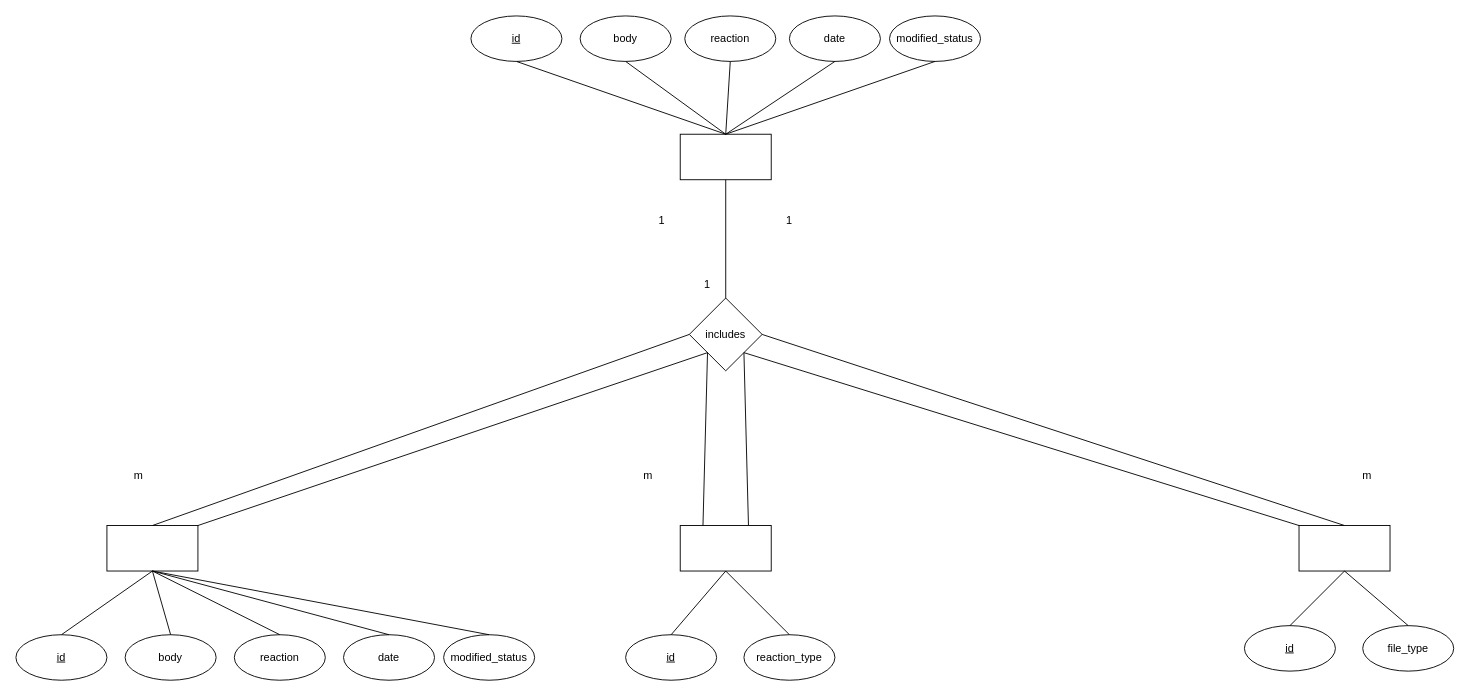
This 1470x696 diagram has some shape labels left out. Each missing label, with the centre of its shape:
comments: [152,548]
post: [725,156]
post_files: [1344,548]
reactions: [725,548]
